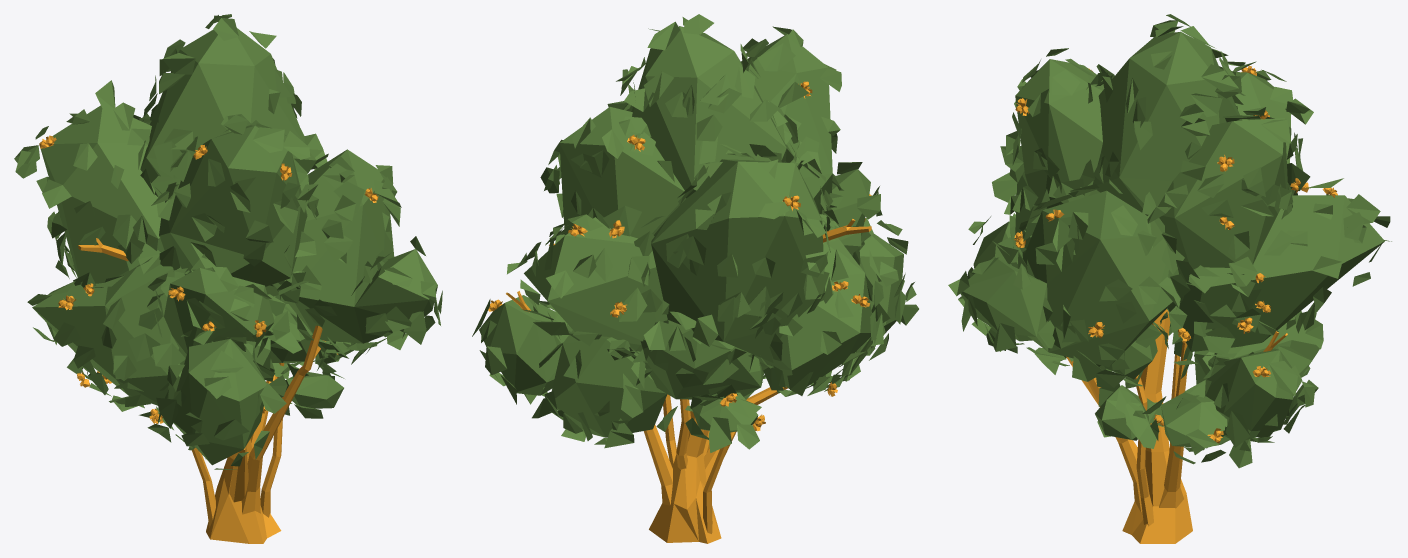
The model's file is SM_Tree_Hazel_Ripe_A.fbx.
3 renders of one model, left to right at view 1: azimuth 30°, elevation 25°; view 2: azimuth 150°, elevation 25°; view 3: azimuth 270°, elevation 25°, orthographic. The views are drawn at different scales.
Parts seen in each view (by area): view 1: tree-hazel-ripe-a; view 2: tree-hazel-ripe-a; view 3: tree-hazel-ripe-a.
Part boxes in pixels (x1=…): tree-hazel-ripe-a: x1=14, y1=14, x2=442, y2=543; tree-hazel-ripe-a: x1=472, y1=14, x2=918, y2=543; tree-hazel-ripe-a: x1=948, y1=14, x2=1391, y2=543.
Size of the model in its own units: 4.84 by 6.65 by 5.3.
